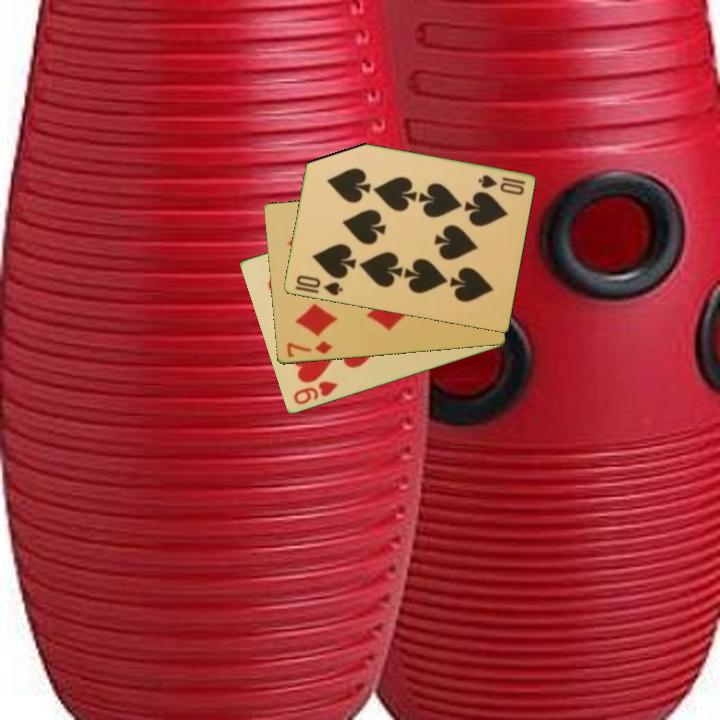10s: (292, 272, 346, 299), (474, 172, 528, 198)
7d: (283, 338, 335, 360)
9h: (290, 378, 340, 408)
